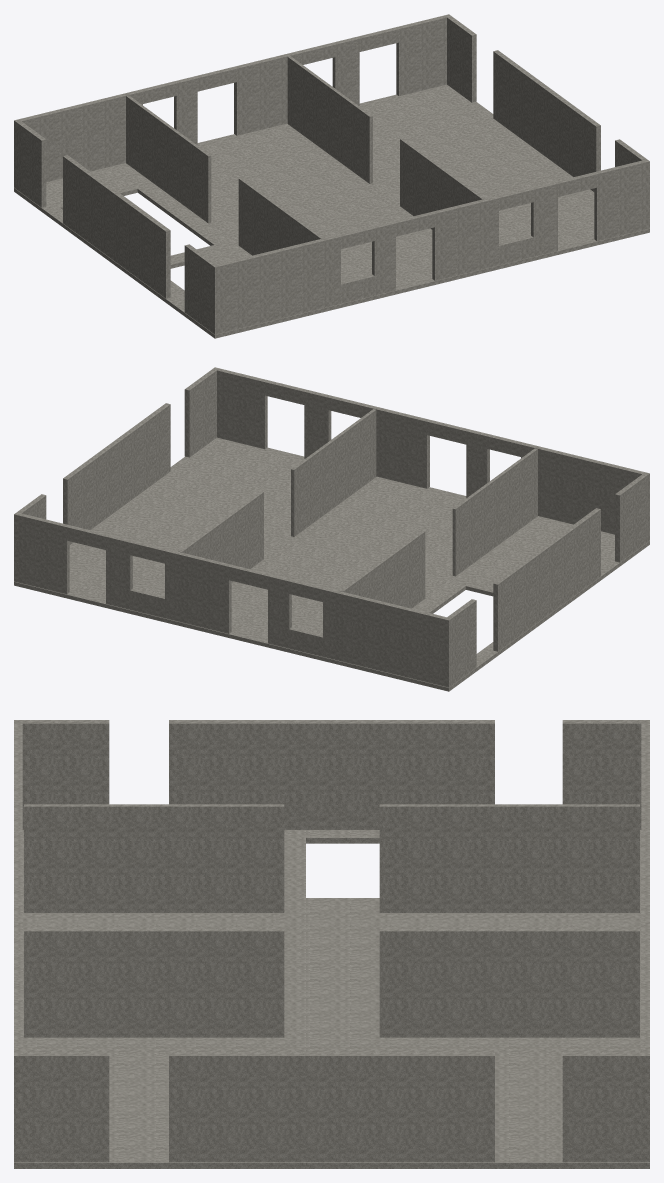
File: PZ_Midrise_Storey_COLLISION_HELPERS_ONLY.glb
3 renders of one model, top to bottom at view 1: azimuth 30°, elevation 25°; view 2: azimuth 150°, elevation 25°; view 3: azimuth 270°, elevation 25°, orthographic. The views are drawn at different scales.
Visible parts, largest first — view 1: UCX_Storey_FloorBox_4_1, UCX_Storey_W_SolidWall_1, UCX_Storey_E_SolidWall_1, UCX_Storey_FloorBox_4_0, UCX_Storey_FloorBox_4_4, UCX_Storey_PartyWall_Front_1, UCX_Storey_PartyWall_Front_0, UCX_Storey_BackWallBox_0_1, UCX_Storey_FloorBox_4_3, UCX_Storey_PartyWall_Rear_1, UCX_Storey_PartyWall_Rear_0, UCX_Storey_FrontWallBox_0_1 (+38 smaller); view 2: UCX_Storey_FloorBox_4_1, UCX_Storey_FloorBox_4_3, UCX_Storey_FloorBox_4_4, UCX_Storey_W_SolidWall_1, UCX_Storey_E_SolidWall_1, UCX_Storey_PartyWall_Rear_1, UCX_Storey_PartyWall_Rear_0, UCX_Storey_FloorBox_4_0, UCX_Storey_FrontWallBox_0_1, UCX_Storey_PartyWall_Front_1, UCX_Storey_PartyWall_Front_0, UCX_Storey_BackWallBox_0_1 (+38 smaller); view 3: UCX_Storey_E_SolidWall_1, UCX_Storey_W_SolidWall_1, UCX_Storey_PartyWall_Front_0, UCX_Storey_PartyWall_Rear_0, UCX_Storey_PartyWall_Front_1, UCX_Storey_PartyWall_Rear_1, UCX_Storey_FloorBox_4_1, UCX_Storey_FloorBox_4_4, UCX_Storey_E_SolidWall_2, UCX_Storey_E_SolidWall_0, UCX_Storey_W_SolidWall_2, UCX_Storey_W_SolidWall_0 (+7 smaller).
Part boxes in pixels (<box>): UCX_Storey_FloorBox_4_1: <box>137,105,552,245</box>; UCX_Storey_W_SolidWall_1: <box>63,155,170,298</box>; UCX_Storey_E_SolidWall_1: <box>493,50,600,191</box>; UCX_Storey_FloorBox_4_0: <box>108,84,480,188</box>; UCX_Storey_FloorBox_4_4: <box>306,198,649,315</box>; UCX_Storey_PartyWall_Front_1: <box>126,95,211,223</box>; UCX_Storey_PartyWall_Front_0: <box>287,56,372,183</box>; UCX_Storey_BackWallBox_0_1: <box>212,250,340,314</box>; UCX_Storey_FloorBox_4_3: <box>224,169,594,260</box>; UCX_Storey_PartyWall_Rear_1: <box>238,177,323,255</box>; UCX_Storey_PartyWall_Rear_0: <box>400,138,485,229</box>; UCX_Storey_FrontWallBox_0_1: <box>14,109,125,169</box>; UCX_Storey_FloorBox_4_1: <box>69,503,465,625</box>; UCX_Storey_FloorBox_4_3: <box>137,468,512,578</box>; UCX_Storey_FloorBox_4_4: <box>170,437,555,551</box>; UCX_Storey_W_SolidWall_1: <box>493,508,600,651</box>; UCX_Storey_E_SolidWall_1: <box>63,403,170,544</box>; UCX_Storey_PartyWall_Rear_1: <box>452,448,537,576</box>; UCX_Storey_PartyWall_Rear_0: <box>291,409,376,536</box>; UCX_Storey_FloorBox_4_0: <box>14,564,357,668</box>; UCX_Storey_FrontWallBox_0_1: <box>323,603,451,667</box>; UCX_Storey_PartyWall_Front_1: <box>340,530,425,608</box>; UCX_Storey_PartyWall_Front_0: <box>178,491,263,582</box>; UCX_Storey_BackWallBox_0_1: <box>538,462,649,522</box>; UCX_Storey_E_SolidWall_1: <box>169,1052,494,1162</box>; UCX_Storey_W_SolidWall_1: <box>169,720,494,829</box>; UCX_Storey_PartyWall_Front_0: <box>379,929,639,1037</box>; UCX_Storey_PartyWall_Rear_0: <box>24,929,284,1037</box>; UCX_Storey_PartyWall_Front_1: <box>379,804,639,912</box>; UCX_Storey_PartyWall_Rear_1: <box>24,804,284,912</box>; UCX_Storey_FloorBox_4_1: <box>306,898,548,1168</box>; UCX_Storey_FloorBox_4_4: <box>14,898,156,1168</box>; UCX_Storey_E_SolidWall_2: <box>22,1052,109,1162</box>; UCX_Storey_E_SolidWall_0: <box>562,1052,641,1162</box>; UCX_Storey_W_SolidWall_2: <box>22,720,109,829</box>; UCX_Storey_W_SolidWall_0: <box>562,720,641,829</box>.
Size of the model in its own units: 20 by 3.13 by 16.
Materials: 1 (1 with a texture image).
